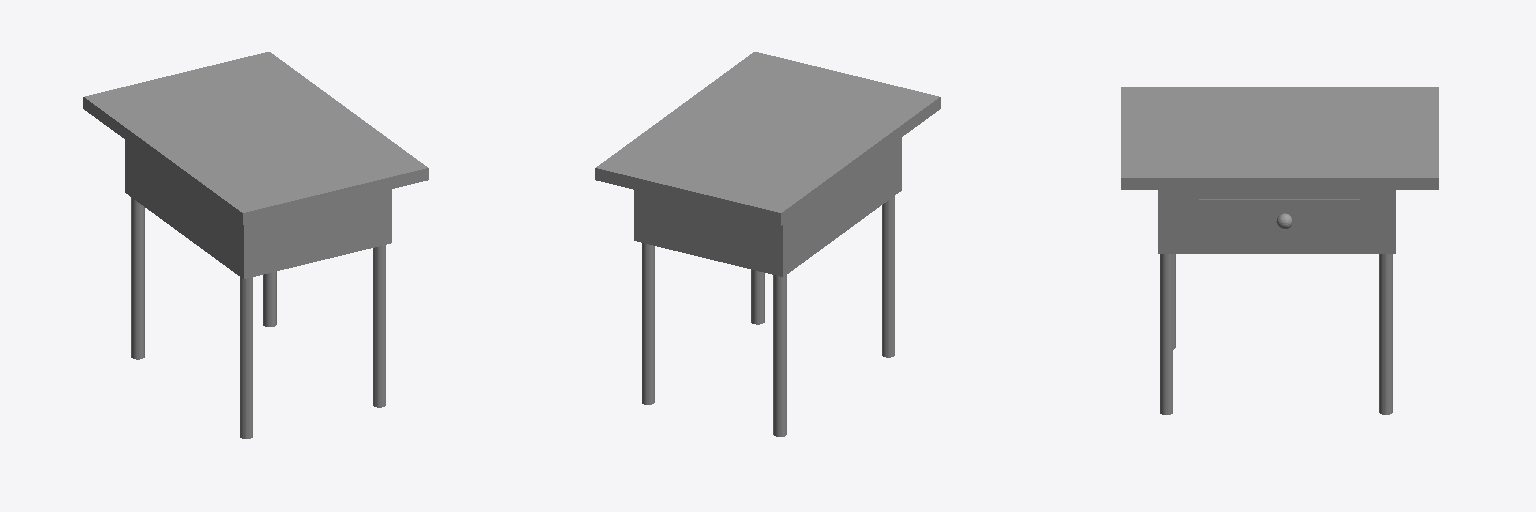
The model's file is VG_Table.obj.
3 renders of one model, left to right at view 1: azimuth 30°, elevation 25°; view 2: azimuth 150°, elevation 25°; view 3: azimuth 270°, elevation 25°, orthographic.
Visible parts, largest first — view 1: Sphere; view 2: Sphere; view 3: Sphere.
Boxes of the visible parts, x1,y1,x2,y2 form: Sphere: [83, 52, 428, 438]; Sphere: [595, 52, 940, 436]; Sphere: [1121, 87, 1438, 414].
Bounding box in the file's own units: 4.63 × 5.88 × 6.86.